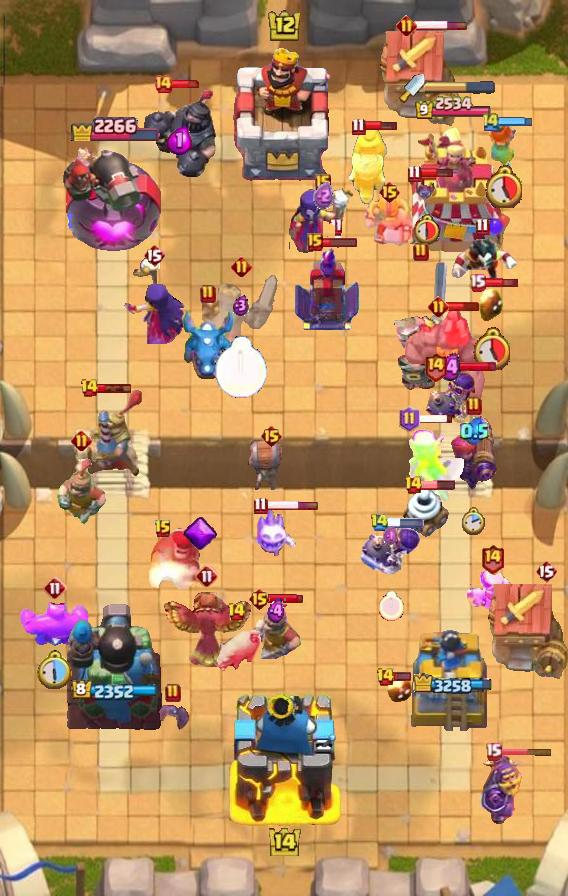bar: (446, 360, 497, 373), (265, 500, 319, 511), (414, 20, 468, 31), (499, 747, 553, 756), (484, 276, 519, 289), (268, 593, 304, 605), (420, 479, 456, 491), (419, 167, 454, 179), (363, 120, 398, 132), (417, 413, 454, 424), (321, 237, 358, 248), (498, 116, 534, 127), (97, 383, 132, 394), (386, 518, 424, 528), (446, 301, 480, 312), (170, 79, 202, 89), (393, 671, 412, 682)
bar-level: (480, 543, 505, 574), (423, 351, 448, 382), (43, 576, 67, 600), (195, 564, 219, 588), (248, 587, 271, 611), (260, 424, 283, 448), (378, 180, 401, 204), (399, 406, 420, 432), (535, 559, 557, 583), (143, 243, 165, 267), (71, 430, 92, 451), (428, 296, 449, 317), (231, 256, 252, 277), (396, 15, 417, 36), (481, 111, 501, 132), (153, 74, 173, 94), (376, 667, 395, 687), (227, 602, 246, 622), (404, 475, 423, 495), (80, 378, 99, 398), (370, 513, 389, 532), (154, 519, 172, 539), (485, 742, 502, 761), (469, 273, 486, 292), (165, 683, 181, 703), (466, 396, 482, 416), (200, 284, 216, 304), (413, 242, 429, 262), (307, 233, 323, 251), (315, 174, 331, 192), (253, 496, 268, 515), (475, 217, 490, 236), (407, 164, 422, 183), (351, 117, 366, 136)
barbarian-evolution: (465, 567, 519, 621)
bat: (157, 702, 189, 732), (413, 175, 437, 201)
bomber-evolution: (360, 524, 422, 576), (423, 370, 477, 426)
cannoneer-tower: (64, 601, 164, 731), (63, 136, 165, 256)
clock: (214, 336, 268, 399), (473, 327, 510, 370), (485, 165, 522, 208), (37, 650, 74, 690), (411, 213, 440, 245), (379, 591, 404, 621), (462, 507, 486, 536)
dagger-duchess-tower: (394, 126, 512, 256)
dagger-duchess-tower-bar: (425, 81, 495, 95)
electro-dragon: (179, 307, 237, 381)
electro-wizard: (445, 231, 519, 289)
elite-barbarian: (362, 195, 416, 247)
elixir: (460, 417, 489, 446), (167, 126, 192, 155), (440, 353, 461, 382), (313, 182, 334, 209), (267, 598, 286, 624), (233, 295, 249, 316), (383, 526, 399, 546)
elixir-golem-mid: (19, 599, 91, 649)
evolution-symbol: (182, 516, 217, 552)
fire-spirit: (478, 288, 504, 322), (385, 674, 413, 704)
firecracker-evolution: (450, 416, 498, 492)
hog: (210, 624, 262, 674)
hunter: (148, 525, 206, 589)
ice-spirit-evolution: (250, 510, 298, 558)
king-tower: (227, 688, 342, 826), (229, 43, 339, 181)
knight-evolution: (481, 755, 523, 825)
queen-tower: (403, 621, 503, 731)
ram-rider: (346, 123, 388, 205)
royal-ghost: (202, 274, 280, 354)
royal-recruit: (55, 455, 107, 527), (251, 599, 301, 659)
tower-bar: (68, 110, 160, 141), (414, 96, 492, 121), (413, 673, 494, 697), (71, 680, 158, 702)
valkyrie: (484, 119, 522, 171)
wall-breaker: (246, 437, 296, 493)
witch: (122, 256, 186, 344), (289, 186, 357, 254)
zappy: (401, 482, 451, 538)
